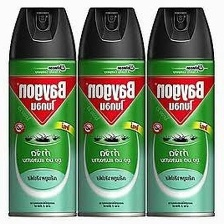aerosol_cans: (5, 4, 79, 219), (143, 5, 217, 218), (75, 4, 148, 218)
